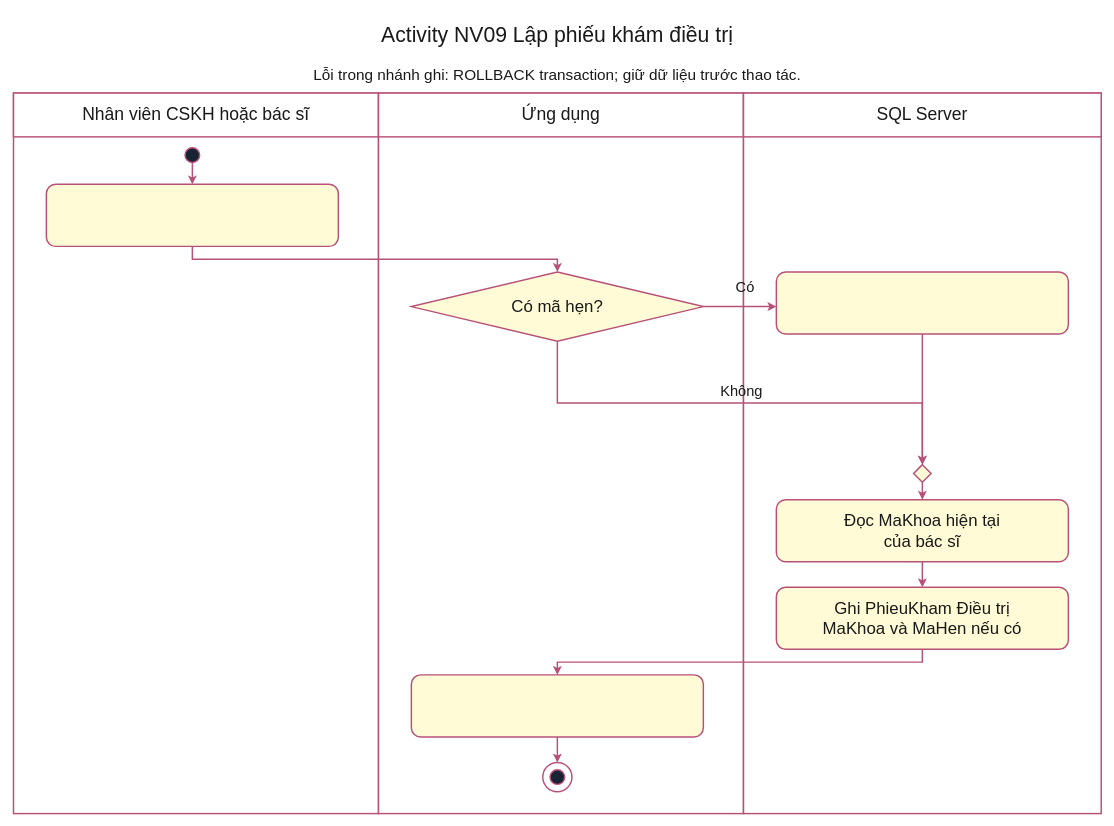
This 1114x826 diagram has some shape labels left out. Here are the shapes that lost their labels. From the top down, the centre of each, then its label:
the point at 192,215: Chọn hồ sơ bác sĩ triệu chứng tiền khám và lịch tùy chọn
the point at 922,302: Kiểm tra lịch đúng hồ sơ bác sĩ đến ngày; chuyển Đã khám
the point at 557,705: COMMIT; trả phiếu đang khám
